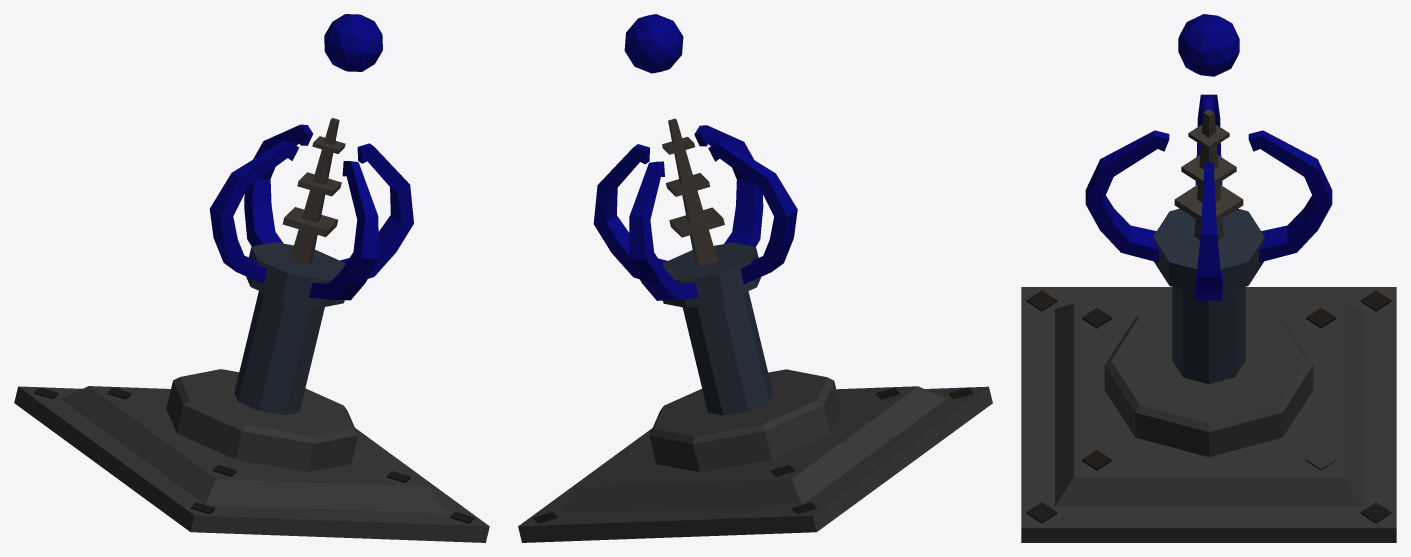
File: turret_blue_1.glb
The picture shows the model from 3 angles, left to right: view 1: azimuth 30°, elevation 25°; view 2: azimuth 150°, elevation 25°; view 3: azimuth 270°, elevation 25°; orthographic projection. The views are drawn at different scales.
Visible parts, largest first — view 1: BaseLightingTurret1_primitive0, MiddleLightingTurret1_primitive0, MiddleLightingTurret1_primitive1, GunLightingTurret1, BallLightingTurret1, BaseLightingTurret1_primitive1; view 2: BaseLightingTurret1_primitive0, MiddleLightingTurret1_primitive0, MiddleLightingTurret1_primitive1, GunLightingTurret1, BallLightingTurret1, BaseLightingTurret1_primitive1; view 3: BaseLightingTurret1_primitive0, MiddleLightingTurret1_primitive1, MiddleLightingTurret1_primitive0, GunLightingTurret1, BallLightingTurret1, BaseLightingTurret1_primitive1.
Part boxes in pixels (x1,y1,x2,y2): BaseLightingTurret1_primitive0: (14,369,489,542); MiddleLightingTurret1_primitive0: (209,124,413,300); MiddleLightingTurret1_primitive1: (234,242,345,415); GunLightingTurret1: (282,118,345,266); BallLightingTurret1: (324,14,382,71); BaseLightingTurret1_primitive1: (33,387,474,523); BaseLightingTurret1_primitive0: (518,369,992,542); MiddleLightingTurret1_primitive0: (593,125,797,300); MiddleLightingTurret1_primitive1: (662,242,772,415); GunLightingTurret1: (662,118,724,266); BallLightingTurret1: (624,14,683,73); BaseLightingTurret1_primitive1: (533,387,973,523); BaseLightingTurret1_primitive0: (1021,287,1396,542); MiddleLightingTurret1_primitive1: (1153,208,1264,383); MiddleLightingTurret1_primitive0: (1085,94,1332,300); GunLightingTurret1: (1174,109,1243,239); BallLightingTurret1: (1178,14,1239,76); BaseLightingTurret1_primitive1: (1026,290,1391,523).
Bounding box in the file's own units: 0.6683 × 0.9852 × 0.6666.
